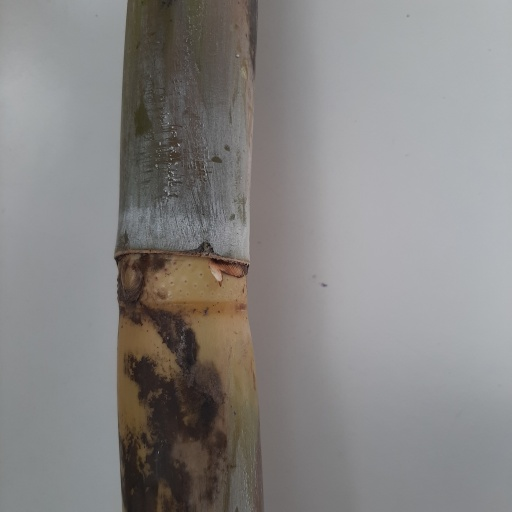Bud: (118, 259, 143, 304)
